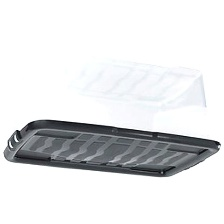plastic_box: (0, 39, 224, 188)
